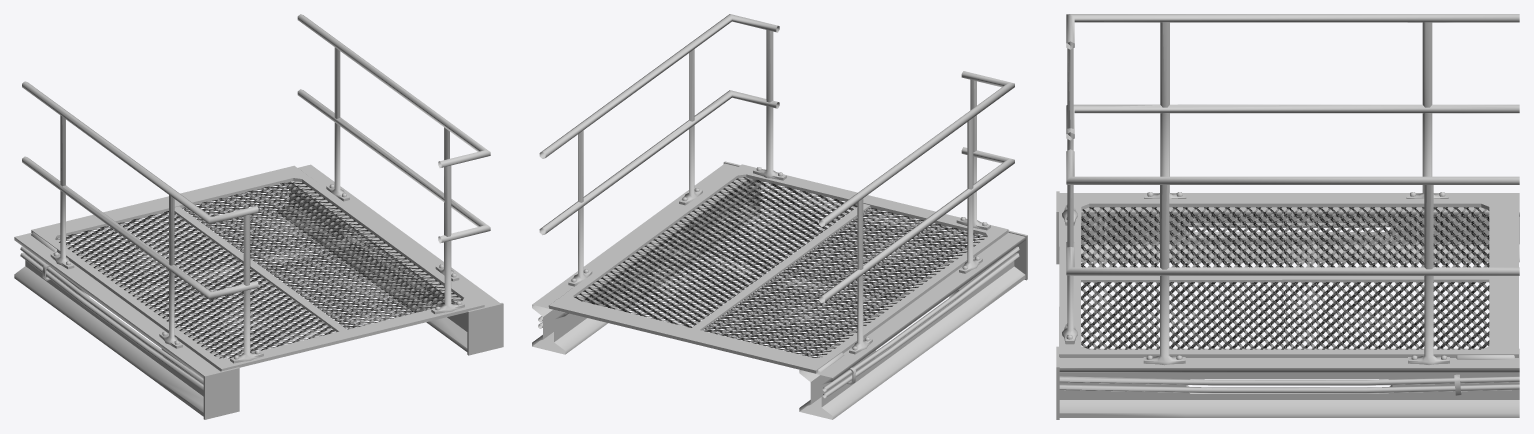
Rendered from End_Part_B.fbx.
The picture shows the model from 3 angles, left to right: view 1: azimuth 30°, elevation 25°; view 2: azimuth 150°, elevation 25°; view 3: azimuth 270°, elevation 25°; orthographic projection. The views are drawn at different scales.
Parts seen in each view (by area): view 1: End_Part_B; view 2: End_Part_B; view 3: End_Part_B.
Boxes of the visible parts, box(x1,y1,x2,y2) form: End_Part_B: box(14, 14, 503, 419); End_Part_B: box(532, 14, 1027, 419); End_Part_B: box(1056, 14, 1519, 419).
Bounding box in the file's own units: 227 × 142 × 252.
